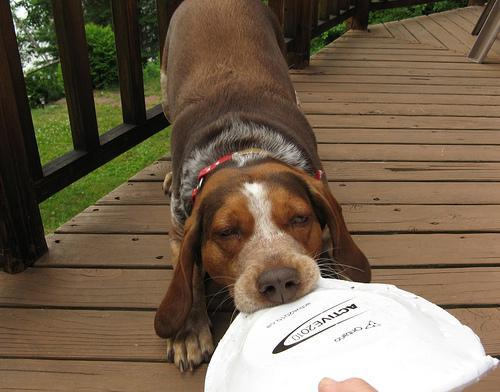hand: (312, 364, 401, 390)
